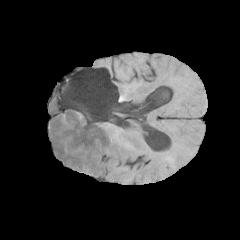glioma: (49, 86, 136, 177)
